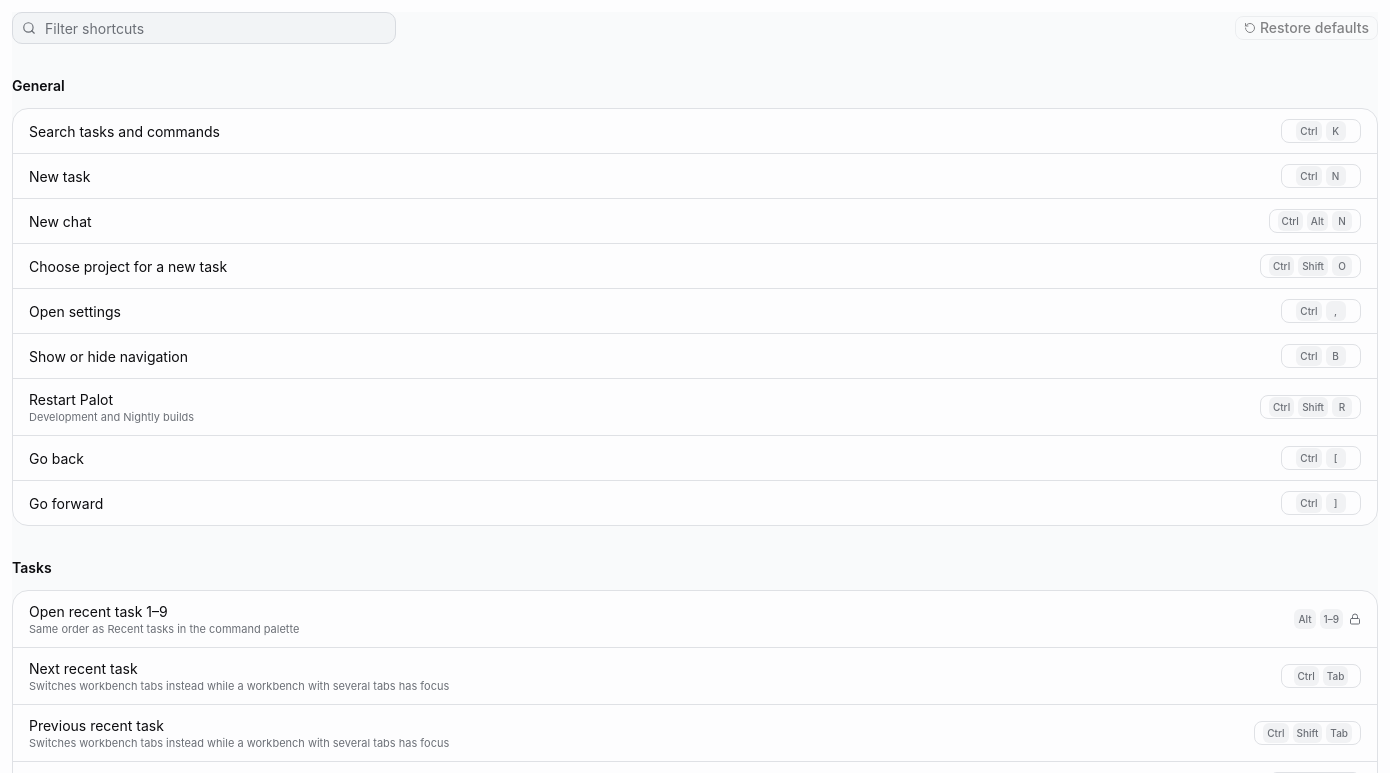
KeyboardShortcutsSettings › records a new binding that the matcher and other labels follow
Click the button with aria-label "Change shortcut for New task": (1321, 176) [1281,164,1361,188]
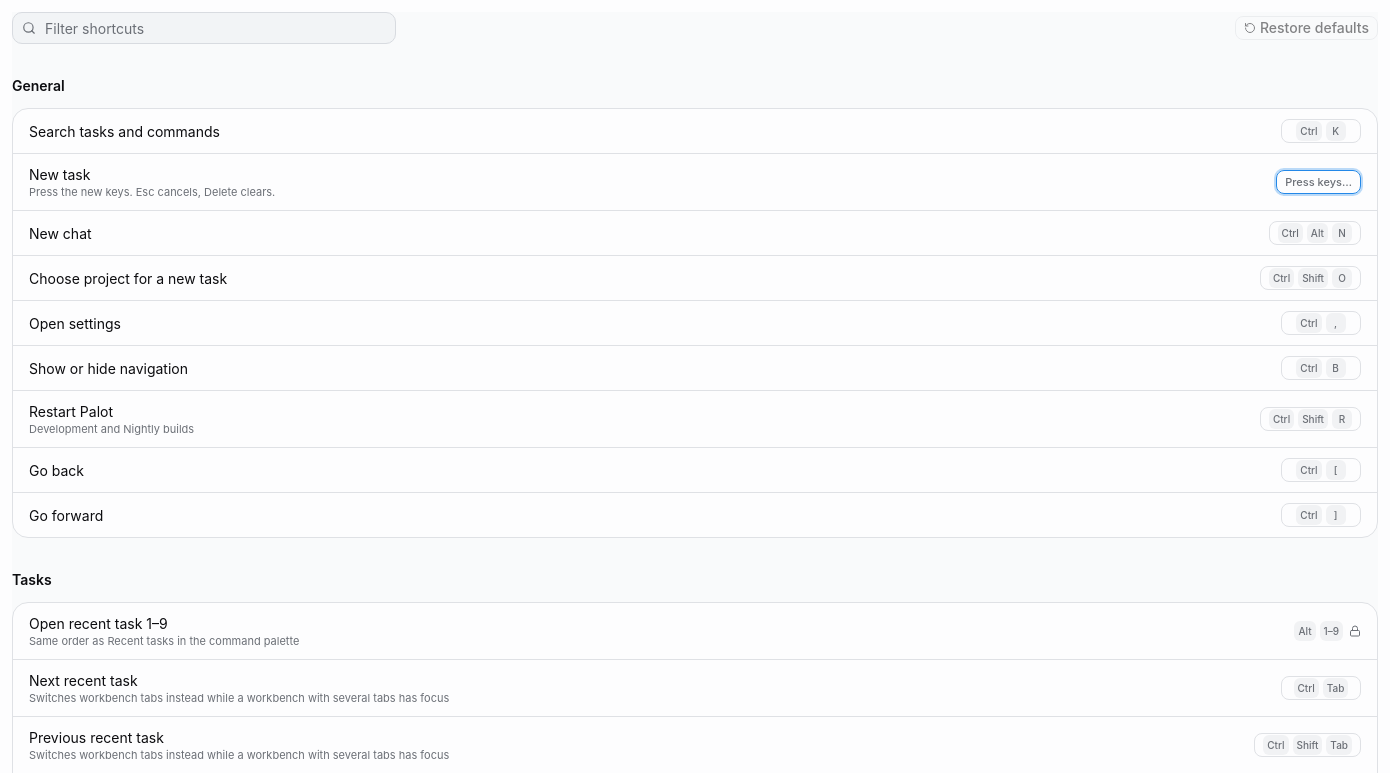
Check: the text "Press keys…" is shown, box [1285,174,1352,190]
Type keys "{Control>}j{/Control}"
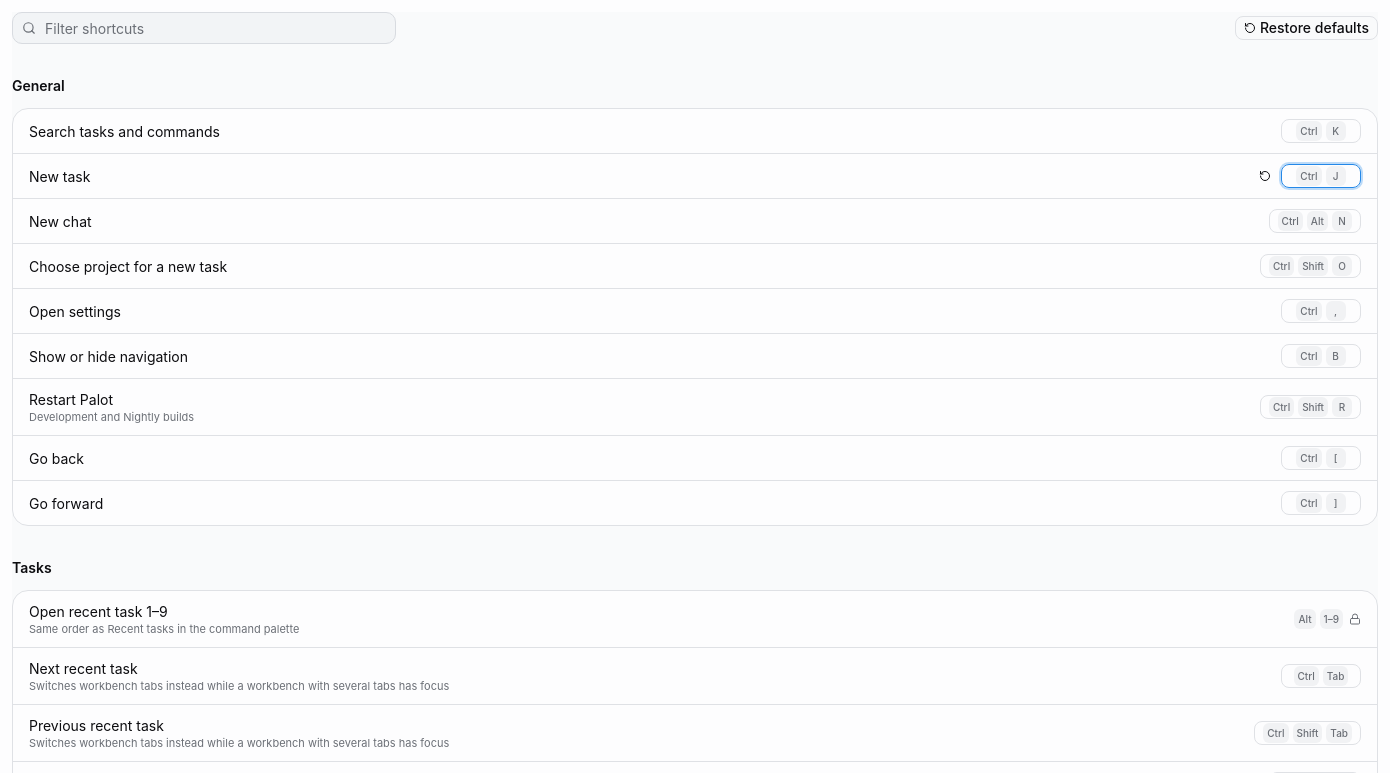
Check: the button with aria-label "Change shortcut for New task, currently Ctrl+J" is shown, box [1281,164,1361,188]
